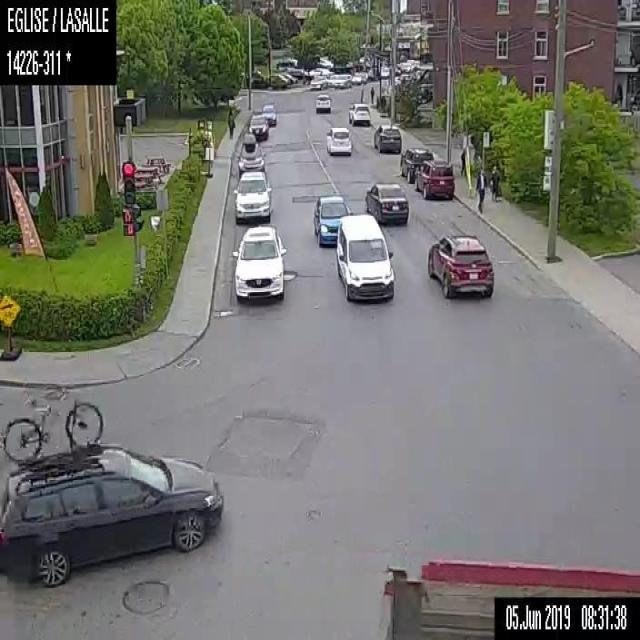pedestrian: (474, 169, 486, 212), (489, 164, 499, 203), (227, 108, 234, 137), (459, 151, 466, 173), (369, 87, 374, 104)
vehicle: (0, 380, 224, 587), (383, 556, 639, 639), (492, 593, 639, 639), (336, 211, 394, 301), (426, 232, 494, 297), (231, 222, 285, 303), (232, 170, 274, 221), (314, 195, 354, 248), (364, 181, 410, 225), (413, 159, 452, 199), (398, 145, 434, 181), (236, 130, 266, 170), (372, 124, 403, 153), (324, 125, 351, 155), (347, 100, 371, 125), (247, 110, 267, 138), (258, 100, 277, 125), (314, 93, 331, 112), (266, 72, 285, 88), (308, 73, 328, 88), (252, 70, 267, 87), (332, 72, 349, 86), (351, 70, 365, 84)
